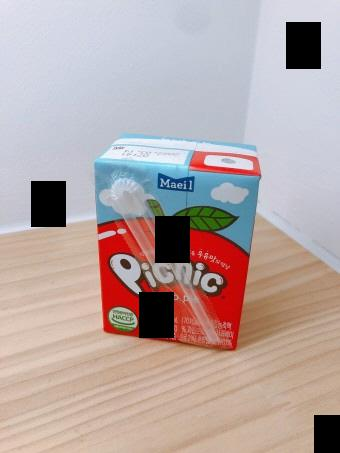picnic_apple: (92, 133, 259, 353)
